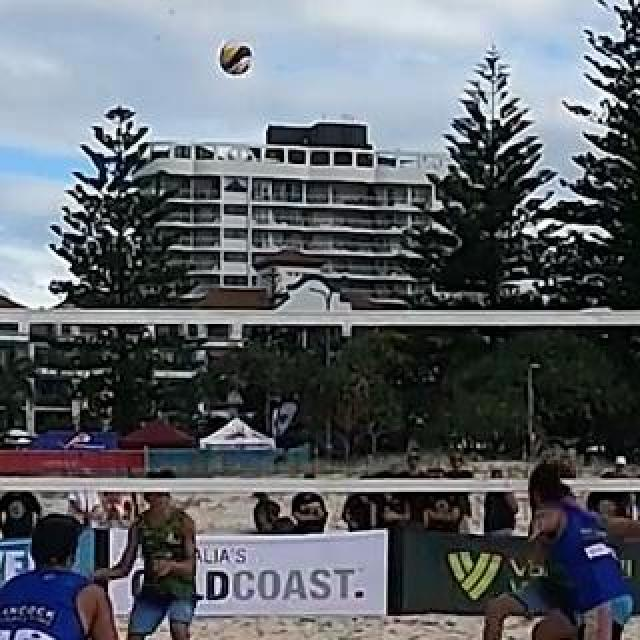volleyball: (218, 42, 252, 76)
